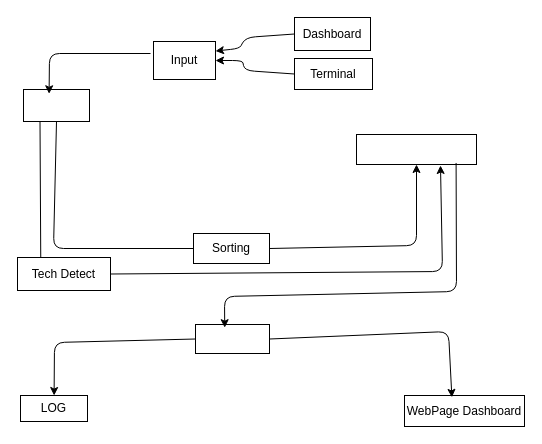
Image size: 542x444. Some labels were removed from this diagram. The box of each missing label's shape, as (x1, y1, x2, y2) in pixels:
Domains: (22, 88, 90, 122)
OUTPUT: (194, 324, 270, 354)
Targeted Nuclei Run: (356, 134, 476, 164)
